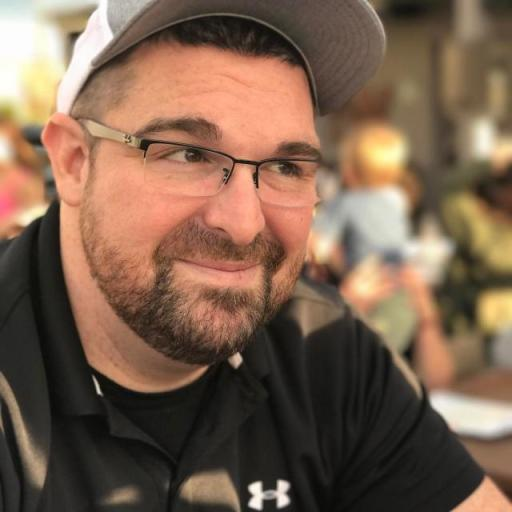Under Armour: (243, 475, 295, 511)
